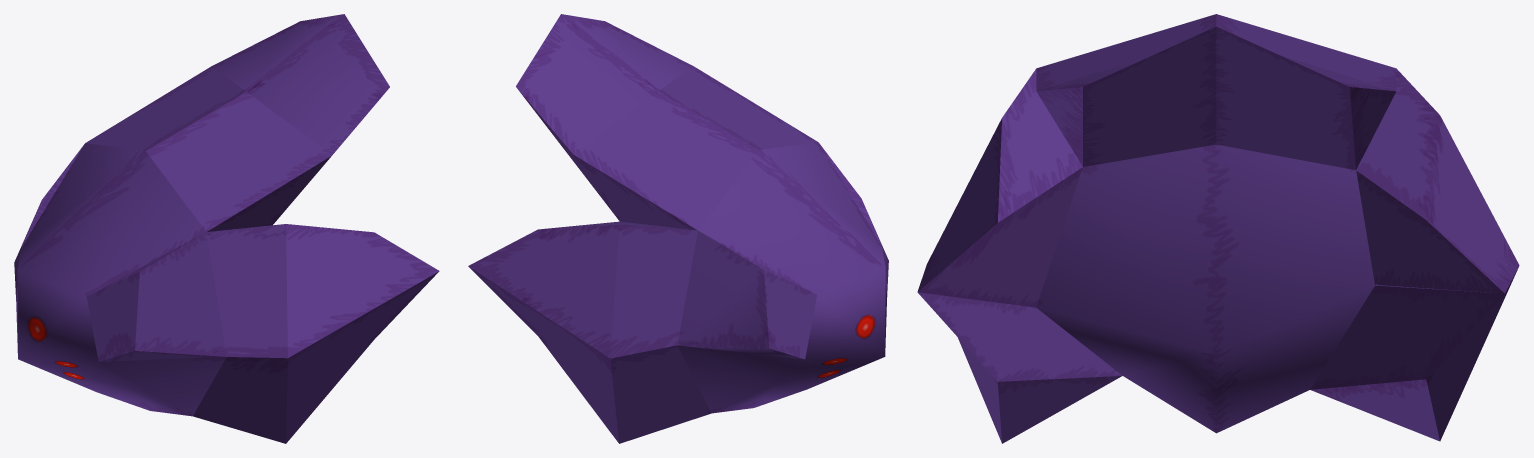
File: Top Enemy Head Textured.fbx
3 renders of one model, left to right at view 1: azimuth 30°, elevation 25°; view 2: azimuth 150°, elevation 25°; view 3: azimuth 270°, elevation 25°, orthographic. The views are drawn at different scales.
Visible parts, largest first — view 1: pCube5; view 2: pCube5; view 3: pCube5.
Boxes of the visible parts, box(x1,y1,x2,y2) form: pCube5: box(14, 14, 439, 443); pCube5: box(468, 14, 888, 443); pCube5: box(917, 14, 1519, 443).
Size of the model in its own units: 5.75 by 5.86 by 6.17.
Materials: 1 (1 with a texture image).
